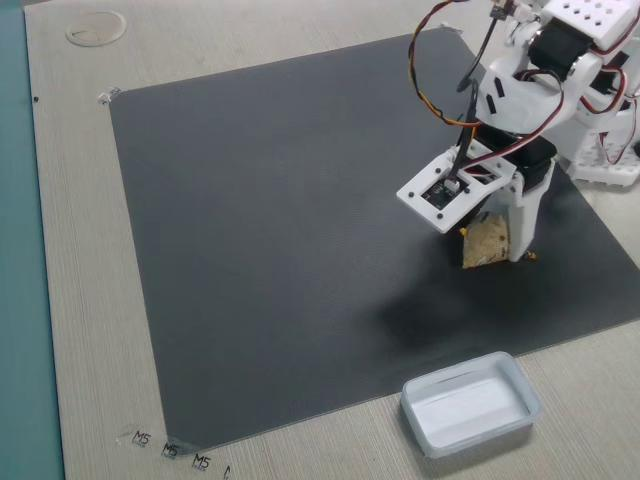gripper: (414, 138, 565, 260)
